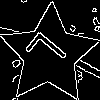L: (24, 29, 76, 80)
